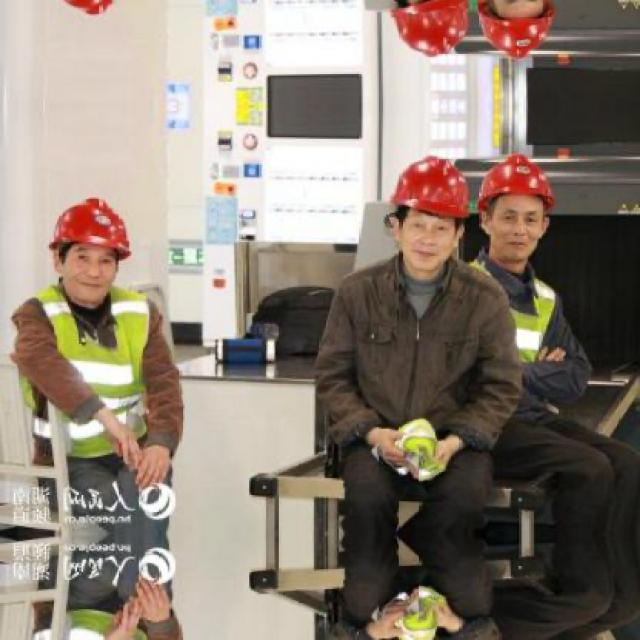helmet: (380, 146, 471, 270), (41, 191, 130, 304), (476, 145, 558, 265), (380, 0, 472, 68), (474, 0, 559, 69), (40, 0, 131, 23)
